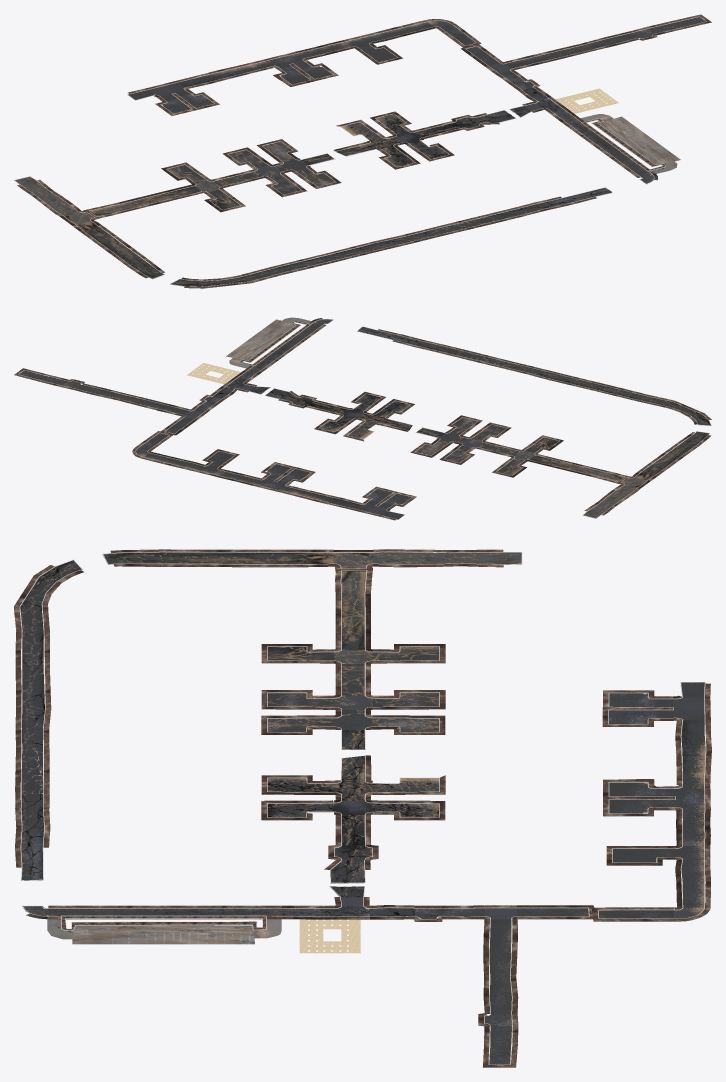
The model's file is New Roads_Fixed.fbx.
The picture shows the model from 3 angles, top to bottom: view 1: azimuth 30°, elevation 25°; view 2: azimuth 150°, elevation 25°; view 3: azimuth 270°, elevation 25°; orthographic projection. The views are drawn at different scales.
Parts seen in each view (by area): view 1: polySurface450_GAME_READY.001__RETEXTURE_MERGED, Sidewalk_RoadNetwork, Curb_Blocks_RoadNetwork, polySurface450_GAME_READY.001__PArking_texture, polySurface450_GAME_READY.001__FLOOR_TEXTURE, Sidewalk; view 2: polySurface450_GAME_READY.001__RETEXTURE_MERGED, Sidewalk_RoadNetwork, Curb_Blocks_RoadNetwork, polySurface450_GAME_READY.001__PArking_texture, polySurface450_GAME_READY.001__FLOOR_TEXTURE, Sidewalk; view 3: polySurface450_GAME_READY.001__RETEXTURE_MERGED, Sidewalk_RoadNetwork, Curb_Blocks_RoadNetwork, polySurface450_GAME_READY.001__PArking_texture, polySurface450_GAME_READY.001__FLOOR_TEXTURE, Sidewalk, Curb_Blocks.
Boxes of the visible parts, x1,y1,x2,y2 form: polySurface450_GAME_READY.001__RETEXTURE_MERGED: (15, 17, 705, 286); Sidewalk_RoadNetwork: (17, 14, 711, 288); Curb_Blocks_RoadNetwork: (14, 16, 706, 286); polySurface450_GAME_READY.001__PArking_texture: (581, 114, 680, 173); polySurface450_GAME_READY.001__FLOOR_TEXTURE: (551, 88, 618, 113); Sidewalk: (582, 118, 665, 170); polySurface450_GAME_READY.001__RETEXTURE_MERGED: (19, 319, 710, 519); Sidewalk_RoadNetwork: (14, 318, 711, 520); Curb_Blocks_RoadNetwork: (18, 319, 711, 519); polySurface450_GAME_READY.001__PArking_texture: (226, 317, 310, 368); polySurface450_GAME_READY.001__FLOOR_TEXTURE: (187, 363, 240, 384); Sidewalk: (239, 321, 310, 365); polySurface450_GAME_READY.001__RETEXTURE_MERGED: (20, 552, 705, 1064); Sidewalk_RoadNetwork: (14, 549, 711, 1067); Curb_Blocks_RoadNetwork: (19, 551, 706, 1064); polySurface450_GAME_READY.001__PArking_texture: (47, 917, 281, 944); polySurface450_GAME_READY.001__FLOOR_TEXTURE: (299, 919, 360, 953); Sidewalk: (61, 916, 265, 930); Curb_Blocks: (61, 915, 266, 931).
Size of the model in its own units: 44018 by 38.52 by 25060.
